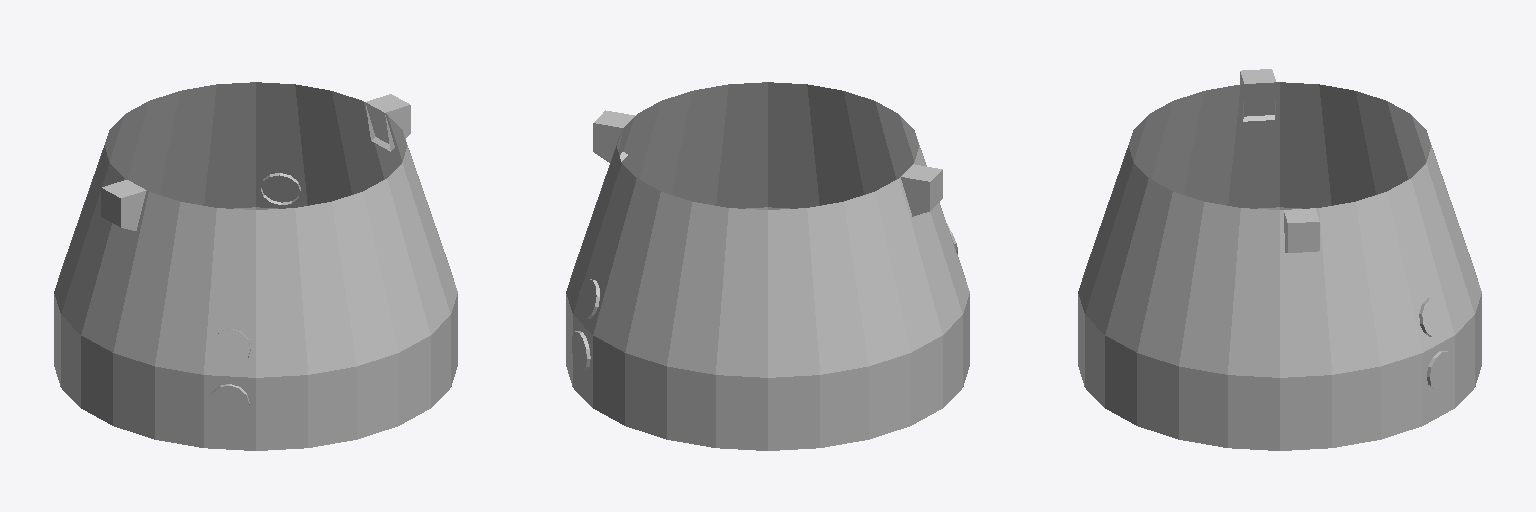
File: kristall node adapter.obj
3 views of the same model, side by side, from view 1: azimuth 30°, elevation 25°; view 2: azimuth 150°, elevation 25°; view 3: azimuth 270°, elevation 25° (orthographic).
Parts seen in each view (by area): view 1: 1; view 2: 1; view 3: 1.
Boxes of the visible parts, x1=… form: 1: x1=54, y1=82, x2=457, y2=450; 1: x1=566, y1=82, x2=969, y2=450; 1: x1=1078, y1=69, x2=1481, y2=450.
Size of the model in its own units: 1.25 by 0.75 by 1.25.